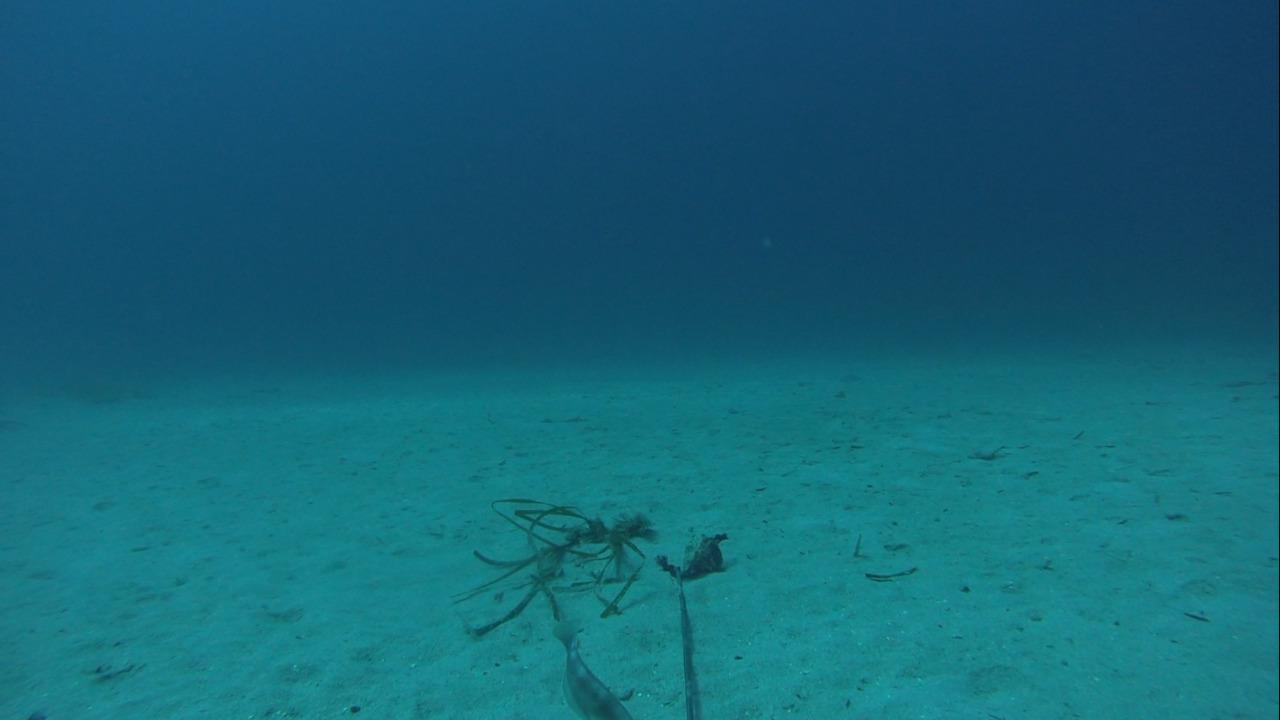raor: (541, 611, 639, 714)
